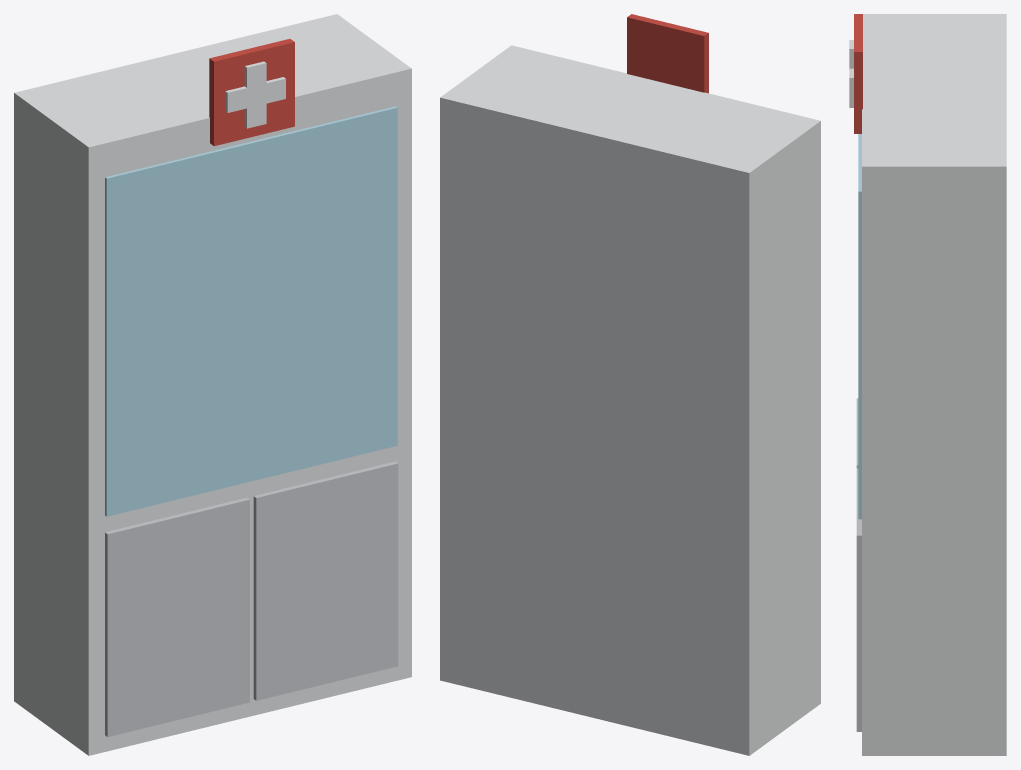
Rendered from SM_Med_Cabinet.glb.
3 views of the same model, side by side, from view 1: azimuth 30°, elevation 25°; view 2: azimuth 150°, elevation 25°; view 3: azimuth 270°, elevation 25° (orthographic). The views are drawn at different scales.
Parts seen in each view (by area): view 1: SM_Med_Cabinet; view 2: SM_Med_Cabinet; view 3: SM_Med_Cabinet.
Boxes of the visible parts, x1,y1,x2,y2 form: SM_Med_Cabinet: (14,14,411,755); SM_Med_Cabinet: (440,14,820,755); SM_Med_Cabinet: (849,14,1006,755).
Bounding box in the file's own units: 1 × 1.98 × 0.435.
